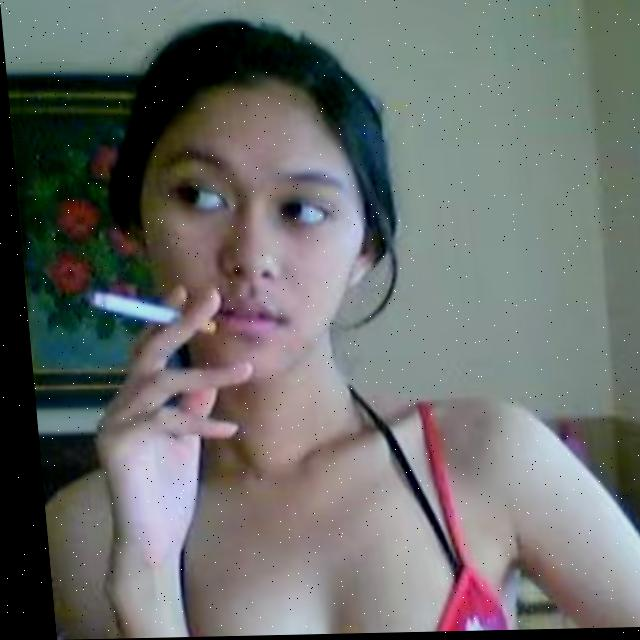cigarette: (81, 290, 211, 338)
